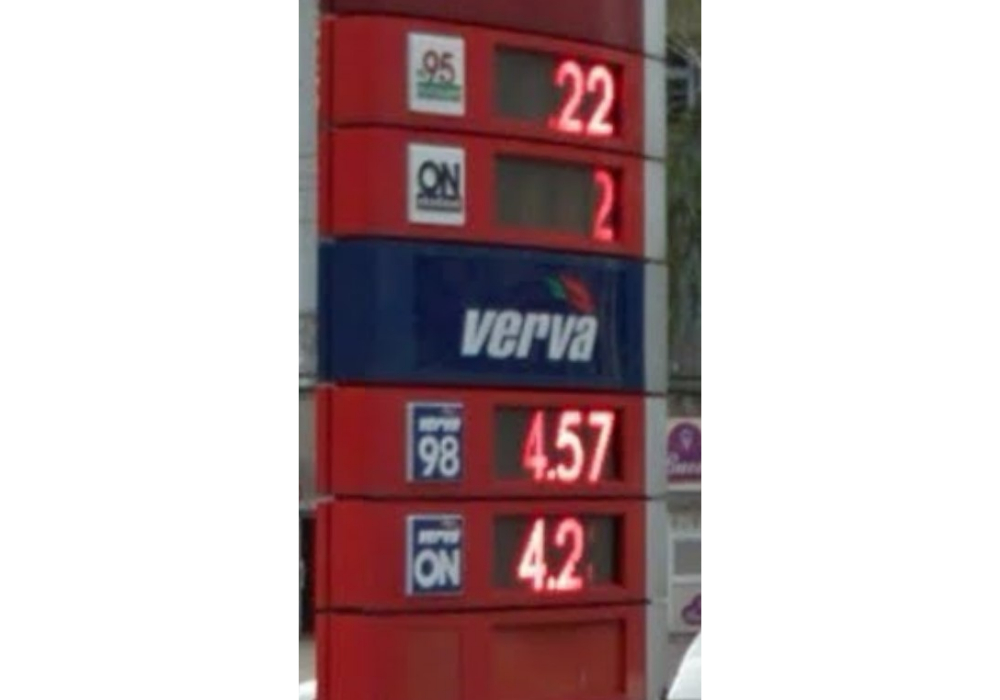ON: (404, 139, 470, 230), (404, 509, 467, 596)
PB95: (406, 29, 469, 121)
PB98: (404, 397, 467, 488)
